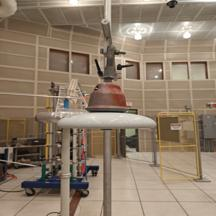insulator: (51, 79, 164, 140)
